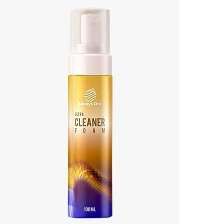cleaning_solution: (64, 6, 114, 219)
